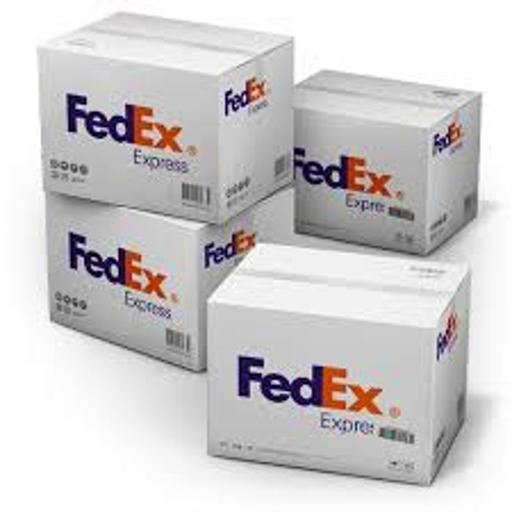FedEx: (210, 244, 470, 490), (31, 2, 299, 211), (40, 188, 295, 371), (282, 62, 496, 257)
